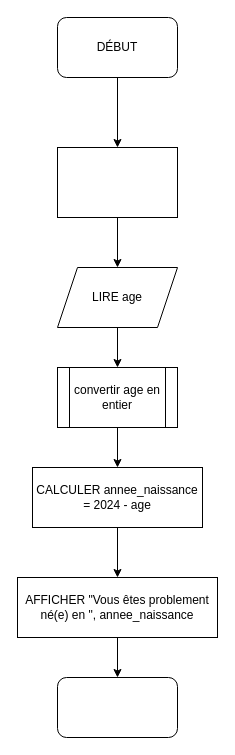
Some shapes in this 235 by 755 pixel diagram are drawn without their labels. Here are the shapes that lost their labels. From the top down, the box of each, then its label:
(56, 146, 178, 218): AFFICHER "Entrez votre âge : "
(56, 676, 178, 738): FIN
